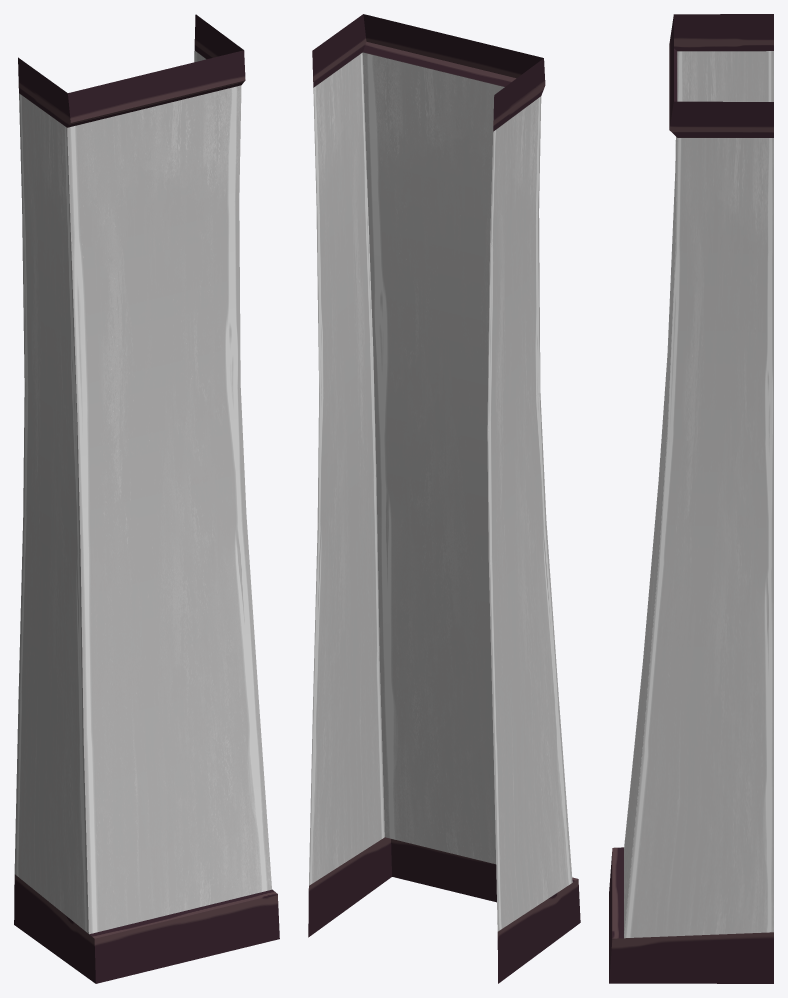
The model's file is ColumnMinimal.fbx.
3 renders of one model, left to right at view 1: azimuth 30°, elevation 25°; view 2: azimuth 150°, elevation 25°; view 3: azimuth 270°, elevation 25°, orthographic. The views are drawn at different scales.
Parts seen in each view (by area): view 1: ColumnMinimal; view 2: ColumnMinimal; view 3: ColumnMinimal.
Boxes of the visible parts, x1,y1,x2,y2 form: ColumnMinimal: (14, 14, 279, 983); ColumnMinimal: (308, 14, 580, 983); ColumnMinimal: (609, 14, 773, 983).
Size of the model in its own units: 67.09 by 300 by 50.9.
